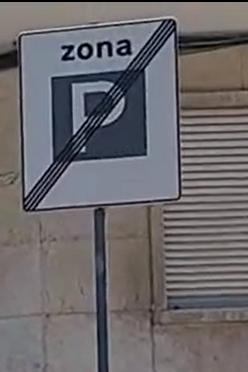fim de zona de estacionamento autorizado: (9, 14, 195, 214)
